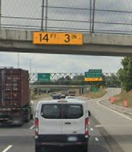1: (37, 32, 42, 43)
3: (62, 33, 72, 44)
4: (41, 32, 49, 44)
overheadsign: (32, 30, 83, 47)
